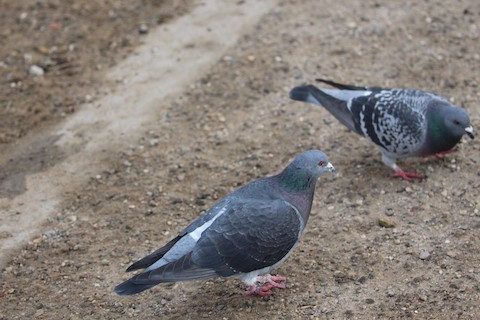pigeon: (112, 144, 341, 307), (281, 69, 478, 184)
